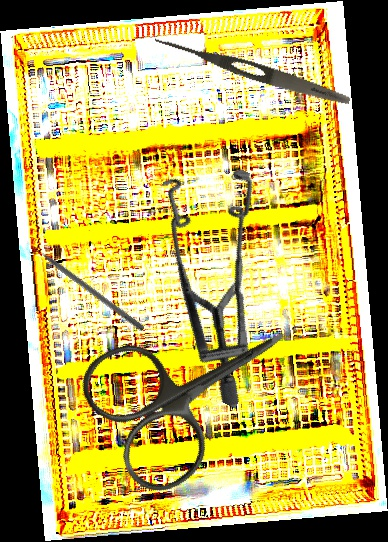Dressing Forceps: (151, 32, 353, 110)
Iris Scissors: (69, 269, 324, 505)
Pusher: (25, 238, 146, 332)
Speculum: (86, 140, 334, 409)
